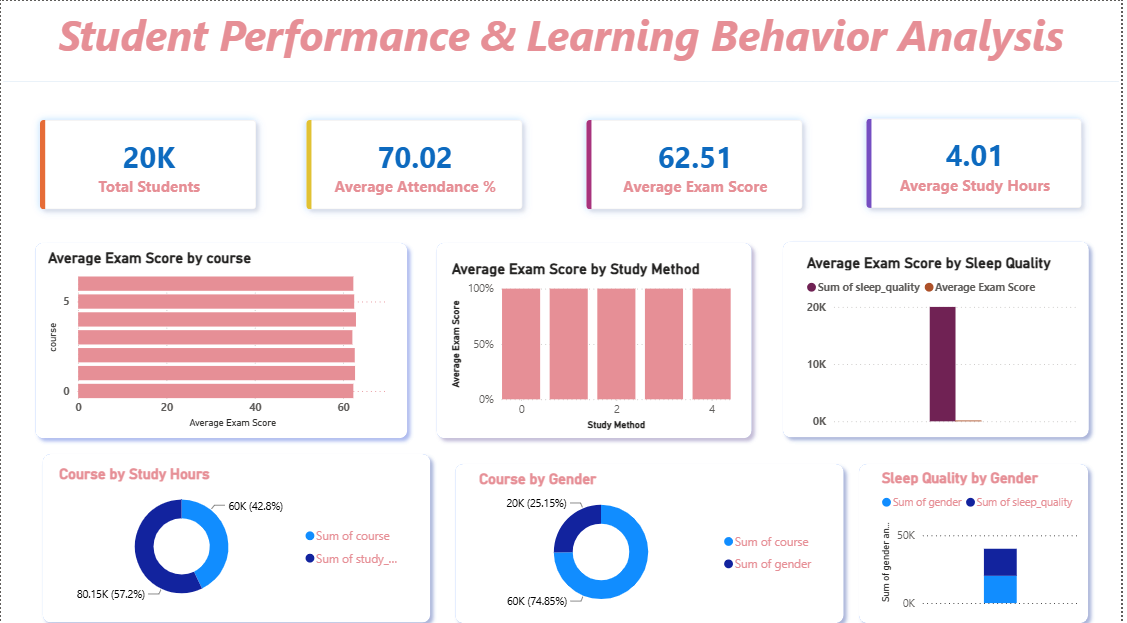

Layout of this report page (visuals, bound fields, positions):
{"tool":"powerbi","page":{"name":"Page 1","canvas":[1280,720],"ordinal":0},"visuals":[{"type":"shape","box":[0,0,1280,91.7],"z":0},{"type":"cardVisual","fields":{"Data":["student_exam_cleaned.Total Students"]},"box":[15,106.7,305,160],"z":2000},{"type":"cardVisual","fields":{"Data":["student_exam_cleaned.Average Attendance %"]},"box":[320,106.7,305,160],"z":3000},{"type":"cardVisual","fields":{"Data":["student_exam_cleaned.Average Exam Score"]},"box":[640,106.7,305,160],"z":4000},{"type":"cardVisual","fields":{"Data":["student_exam_cleaned.Average Study Hours"]},"box":[960,106,304,160],"z":5000},{"type":"shape","box":[30,266.7,443.3,241.7],"z":6000},{"type":"clusteredBarChart","fields":{"Category":["student_exam_cleaned.course"],"Y":["student_exam_cleaned.Average Exam Score"]},"box":[48.3,283.3,405,210],"z":7000},{"type":"shape","box":[488.3,266.7,378.3,241.7],"z":8000},{"type":"hundredPercentStackedColumnChart","title":"Average Exam Score by Study Method","fields":{"Category":["student_exam_cleaned.study_method"],"Y":["student_exam_cleaned.Average Exam Score"]},"box":[509.5,295.3,329.1,199.5],"z":9000},{"type":"shape","box":[884,266,368,242],"z":10000},{"type":"lineClusteredColumnComboChart","title":"Average Exam Score by Sleep Quality","fields":{"Y":["Sum(student_exam_cleaned.sleep_quality)","student_exam_cleaned.Average Exam Score"]},"box":[916,288,322,206],"z":11000},{"type":"shape","box":[38.3,508.3,461,210.8],"z":12000},{"type":"shape","box":[510,520,462,200],"z":13000},{"type":"donutChart","title":"Course by Gender","fields":{"Y":["Sum(student_exam_cleaned.course)","Sum(student_exam_cleaned.gender)"]},"box":[541,535.4,399,169.1],"z":14000},{"type":"donutChart","title":"Course by Study Hours","fields":{"Y":["Sum(student_exam_cleaned.course)","Sum(student_exam_cleaned.study_hours)"]},"box":[60.9,529.7,411.4,167.9],"z":15000},{"type":"shape","box":[972,520,280,200],"z":16000},{"type":"columnChart","title":"Sleep Quality by Gender","fields":{"Y":["Sum(student_exam_cleaned.gender)","Sum(student_exam_cleaned.sleep_quality)"]},"box":[1002,534,236,168],"z":17000},{"type":"textbox","box":[0,0,1280.2,91.9],"z":17001}]}

Visuals, with their boxes in screenshot pixels (x1, y1, x2, y2), scaled from the page's 1280x720 canvas onto the 1127x623 screenshot:
shape: box(0, 0, 1126, 79)
cardVisual - student_exam_cleaned.Total Students: box(13, 92, 282, 231)
cardVisual - student_exam_cleaned.Average Attendance %: box(282, 92, 550, 231)
cardVisual - student_exam_cleaned.Average Exam Score: box(564, 92, 832, 231)
cardVisual - student_exam_cleaned.Average Study Hours: box(845, 92, 1113, 230)
shape: box(26, 231, 417, 440)
clusteredBarChart - student_exam_cleaned.course x student_exam_cleaned.Average Exam Score: box(43, 245, 399, 427)
shape: box(430, 231, 763, 440)
"Average Exam Score by Study Method" hundredPercentStackedColumnChart: box(449, 256, 738, 428)
shape: box(778, 230, 1102, 440)
"Average Exam Score by Sleep Quality" lineClusteredColumnComboChart: box(807, 249, 1090, 427)
shape: box(34, 440, 440, 622)
shape: box(449, 450, 856, 622)
"Course by Gender" donutChart: box(476, 463, 828, 610)
"Course by Study Hours" donutChart: box(54, 458, 416, 604)
shape: box(856, 450, 1102, 622)
"Sleep Quality by Gender" columnChart: box(882, 462, 1090, 607)
textbox: box(0, 0, 1126, 80)
